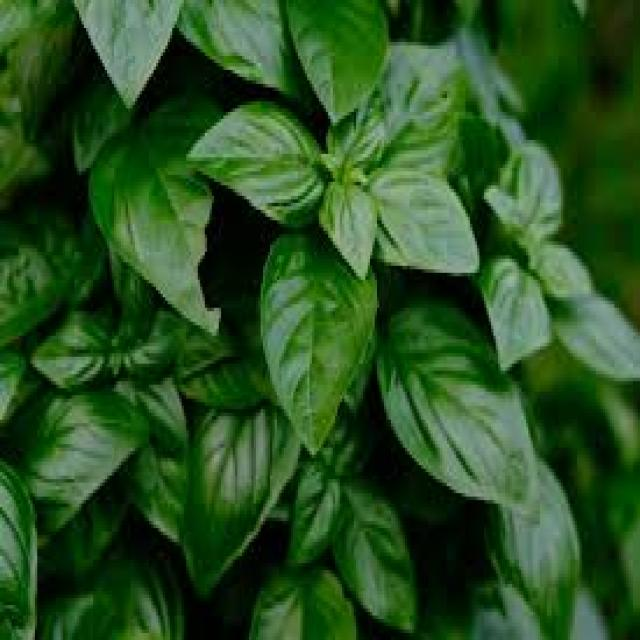healthy: (1, 7, 640, 629)
